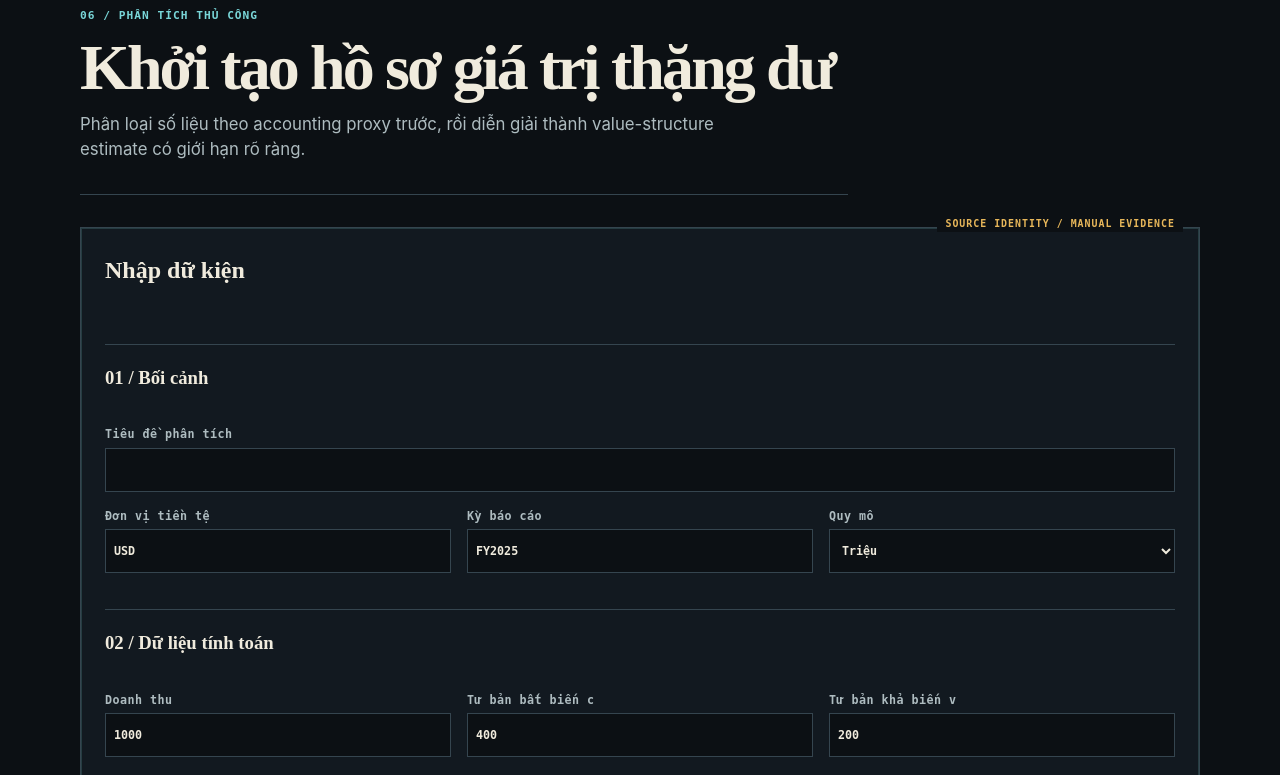
Test: ScannerPage › retries the failed sensitivity mutation and clears its error after a calculation
Type "Cloud Platform 2025" into the field labelled "Tiêu đề phân tích" at (640, 470), box [105,448,1175,492]
(page scrolled)
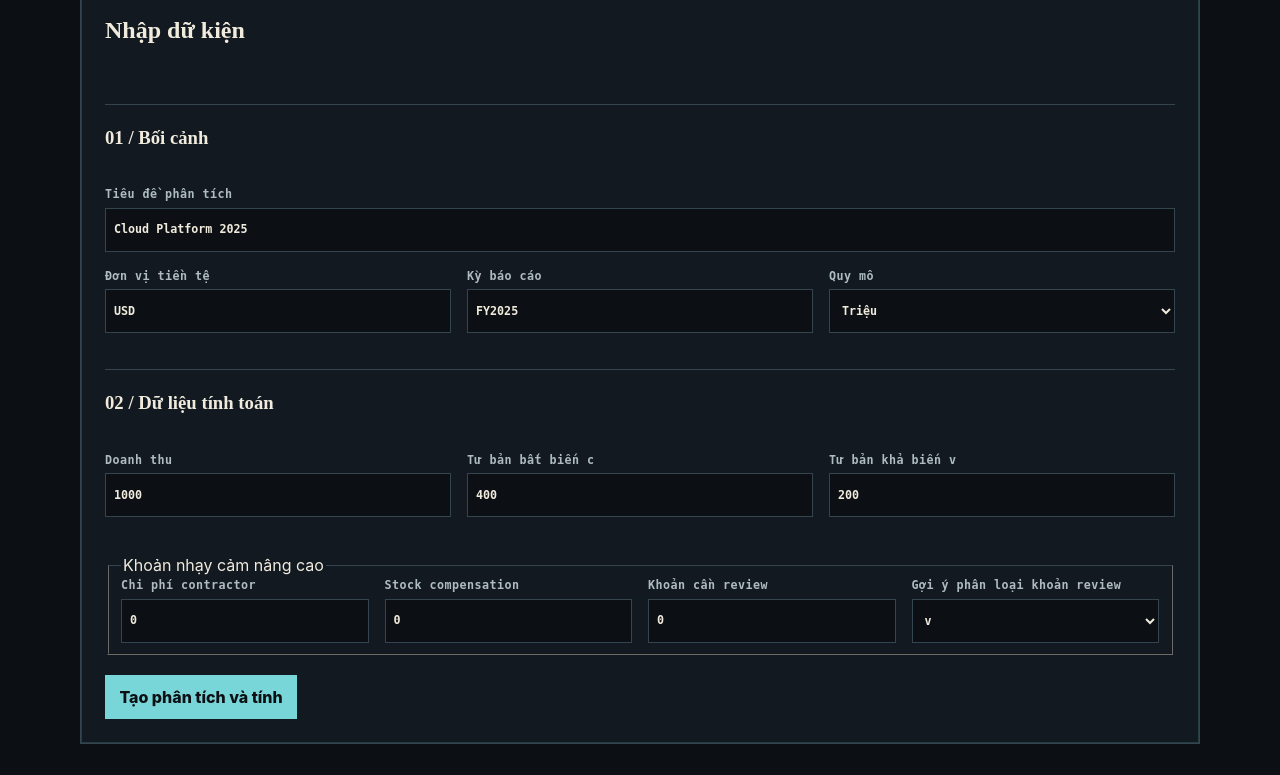
Click the button "Tạo phân tích và tính" at (201, 697), box [105,675,297,719]
(page scrolled)
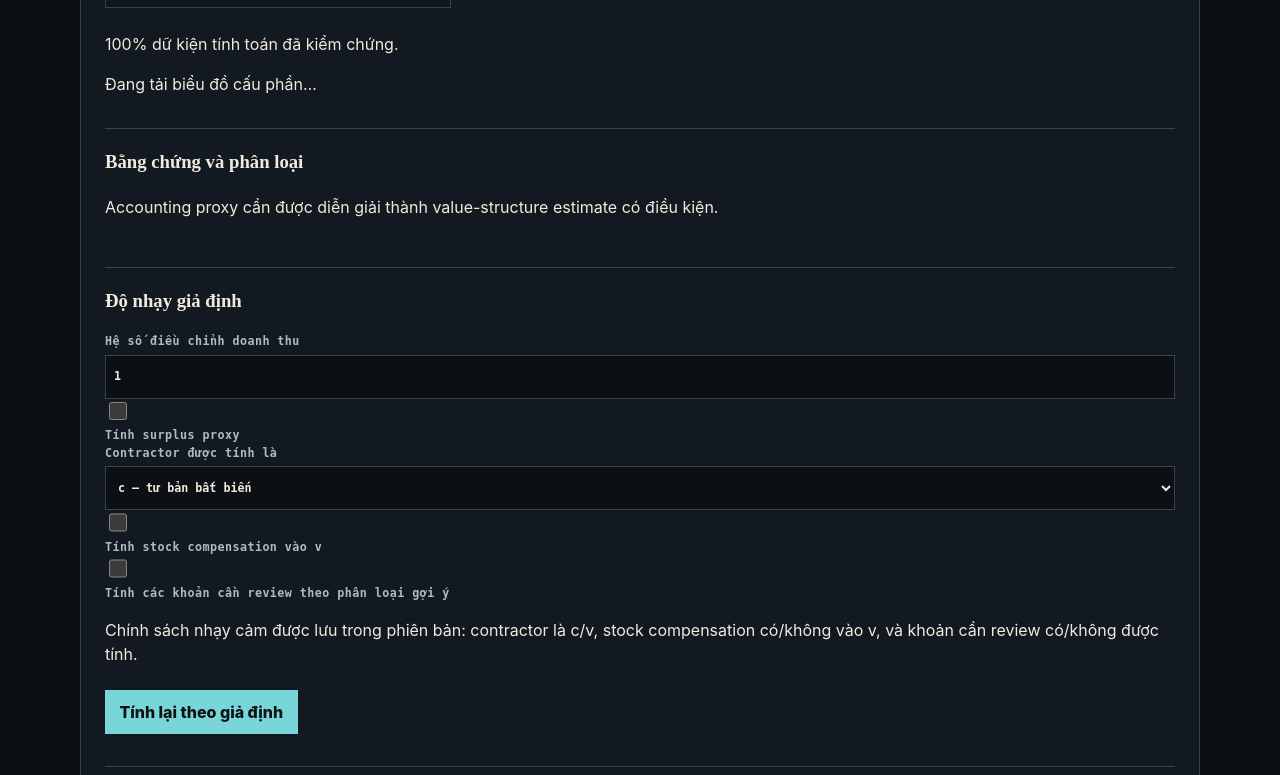
Replace the text in the number field labelled "Hệ số điều chỉnh doanh thu" with "0.9" at (640, 377), box [105,355,1175,399]
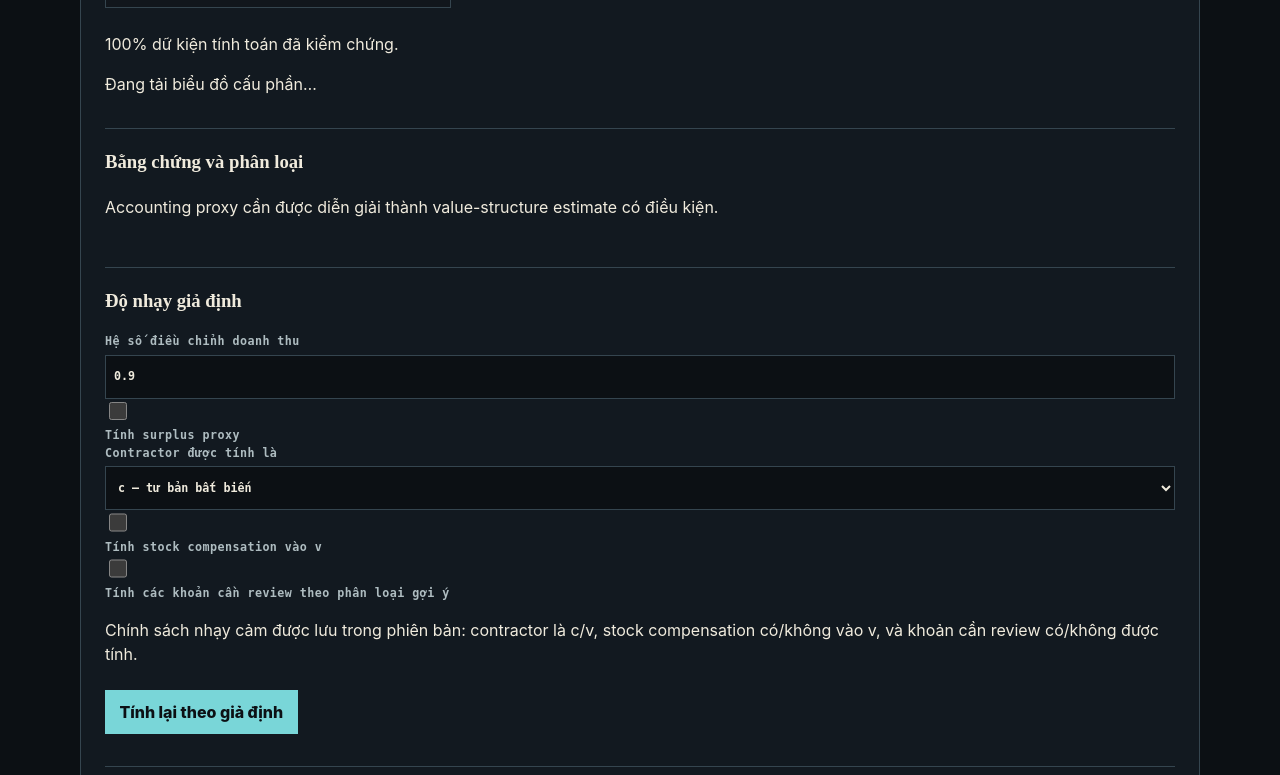
Click the button "Tính lại theo giả định" at (201, 712), box [105,690,298,734]
(page scrolled)
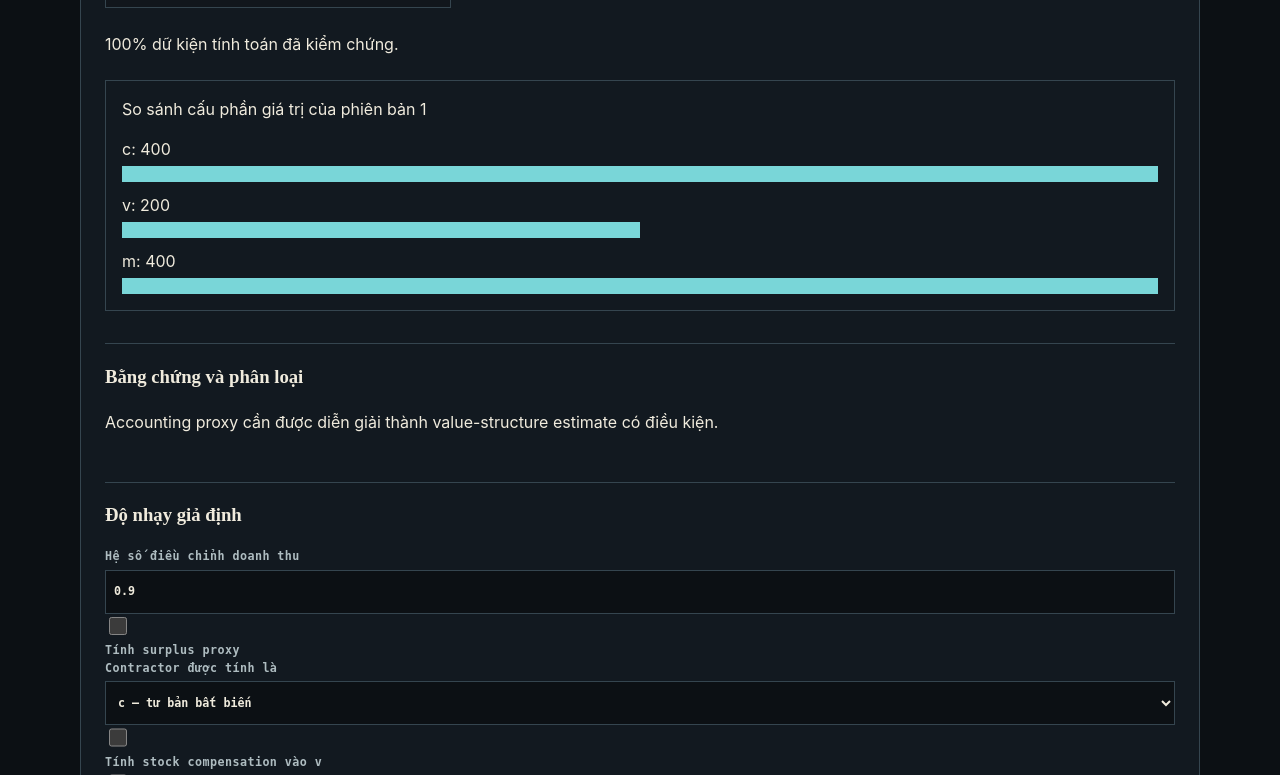
Replace the text in the number field labelled "Hệ số điều chỉnh doanh thu" with "0.8" at (640, 592), box [105,570,1175,614]
(page scrolled)
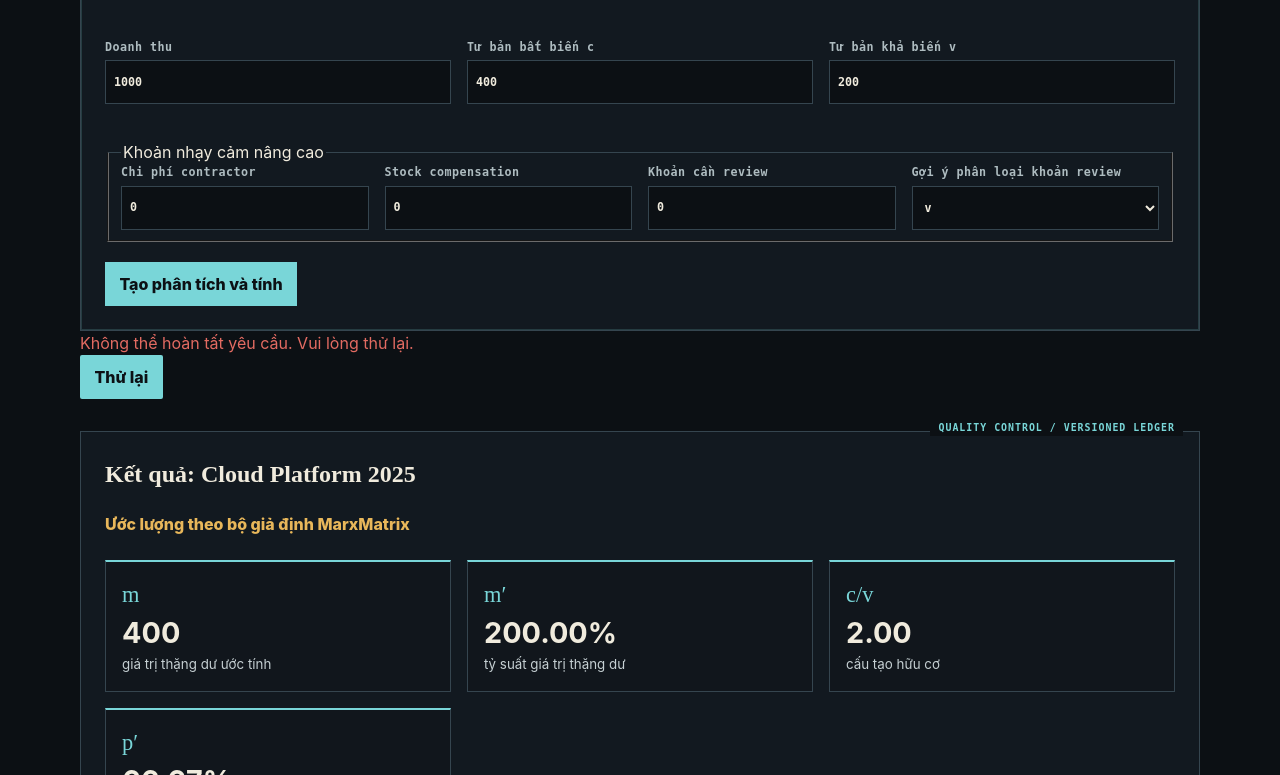
Click the button "Thử lại" at (121, 377), box [80,355,163,399]
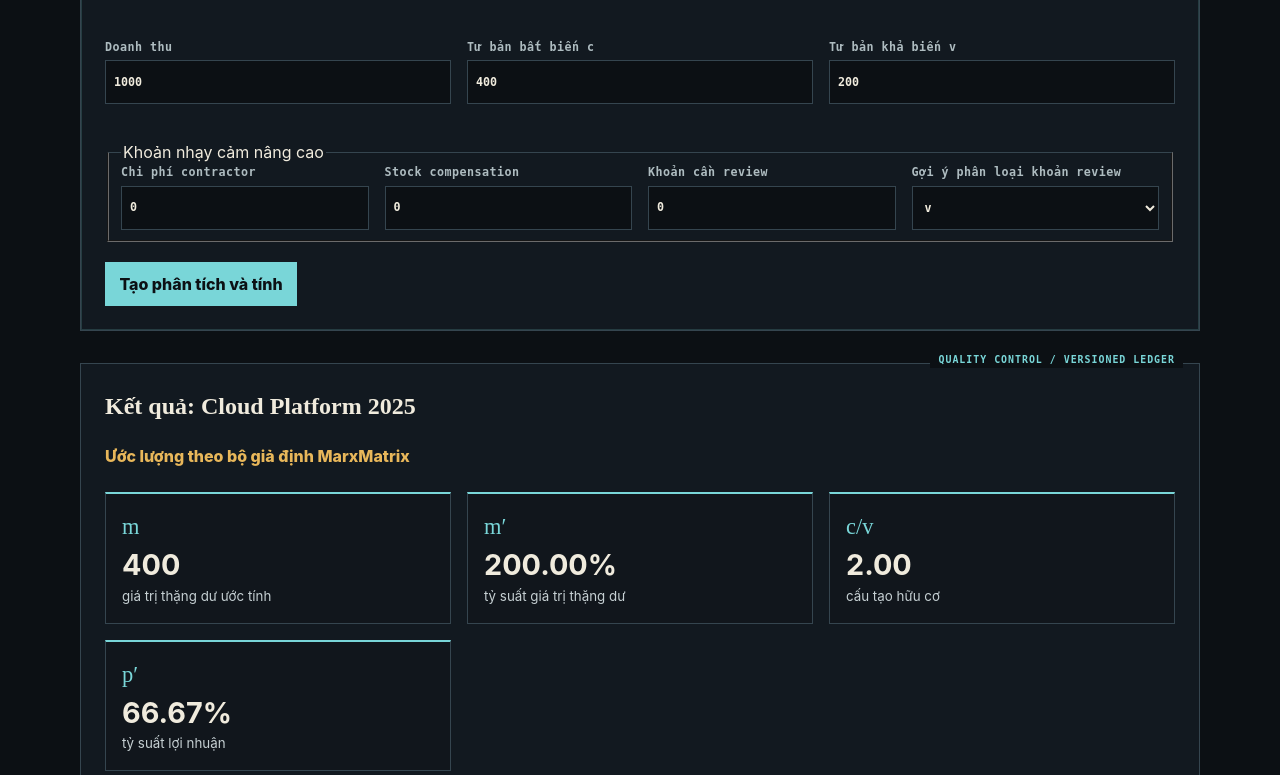
Check: the message "Không thể hoàn tất yêu cầu. Vui lòng thử lại." is gone
